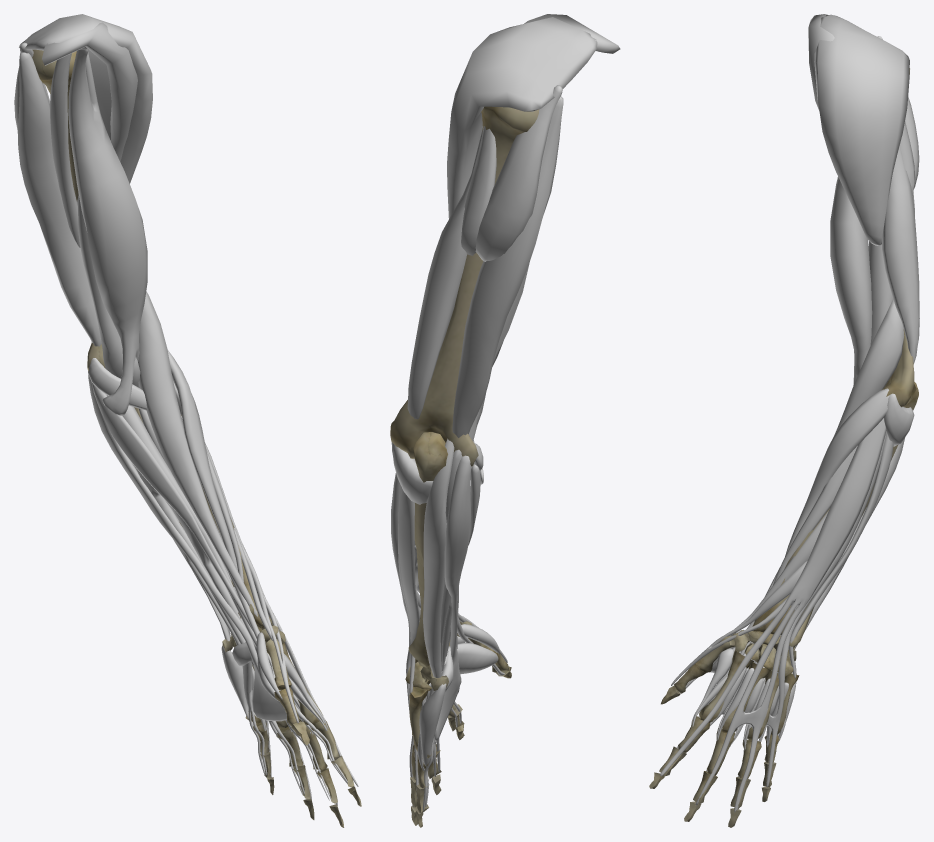
The model's file is arm.fbx.
3 views of the same model, side by side, from view 1: azimuth 30°, elevation 25°; view 2: azimuth 150°, elevation 25°; view 3: azimuth 270°, elevation 25° (orthographic). The views are drawn at different scales.
Visible parts, largest first — view 1: polySurface619, polySurface622, polySurface576, polySurface571, polySurface620, polySurface604, polySurface568, polySurface577, polySurface623, polySurface579, polySurface603, polySurface555 (+6 smaller); view 2: polySurface620, polySurface622, polySurface555, polySurface602, polySurface624, polySurface589, polySurface568, polySurface549, polySurface625, polySurface588, polySurface571, polySurface572 (+8 smaller); view 3: polySurface620, polySurface572, polySurface619, polySurface602, polySurface579, polySurface576, polySurface588, polySurface573, polySurface585, polySurface603, polySurface555, polySurface594 (+9 smaller).
Part boxes in pixels (left/top/right/bottom): polySurface619: left=68, top=49, right=147, bottom=415; polySurface622: left=17, top=52, right=101, bottom=346; polySurface576: left=138, top=291, right=257, bottom=616; polySurface571: left=107, top=395, right=347, bottom=800; polySurface620: left=19, top=14, right=152, bottom=183; polySurface604: left=42, top=22, right=137, bottom=161; polySurface568: left=88, top=370, right=286, bottom=721; polySurface577: left=91, top=382, right=252, bottom=630; polySurface623: left=50, top=53, right=80, bottom=247; polySurface579: left=167, top=350, right=259, bottom=632; polySurface603: left=77, top=193, right=140, bottom=386; polySurface555: left=32, top=49, right=105, bottom=370; polySurface620: left=447, top=17, right=597, bottom=218; polySurface622: left=452, top=96, right=563, bottom=437; polySurface555: left=390, top=106, right=539, bottom=466; polySurface602: left=407, top=129, right=482, bottom=419; polySurface624: left=475, top=85, right=562, bottom=261; polySurface589: left=422, top=438, right=454, bottom=677; polySurface568: left=434, top=455, right=471, bottom=742; polySurface549: left=408, top=432, right=447, bottom=667; polySurface625: left=461, top=126, right=496, bottom=255; polySurface588: left=398, top=487, right=419, bottom=694; polySurface571: left=423, top=449, right=470, bottom=811; polySurface572: left=391, top=473, right=432, bottom=807; polySurface620: left=814, top=14, right=909, bottom=245; polySurface572: left=660, top=418, right=887, bottom=812; polySurface619: left=830, top=177, right=872, bottom=385; polySurface602: left=882, top=145, right=919, bottom=363; polySurface579: left=754, top=388, right=889, bottom=643; polySurface576: left=754, top=299, right=904, bottom=622; polySurface588: left=788, top=434, right=893, bottom=678; polySurface573: left=671, top=561, right=807, bottom=685; polySurface585: left=754, top=445, right=857, bottom=663; polySurface603: left=868, top=241, right=893, bottom=344; polySurface555: left=883, top=68, right=914, bottom=407; polySurface594: left=884, top=393, right=914, bottom=446.
Size of the model in its own units: 21.91 by 71.76 by 24.24.
